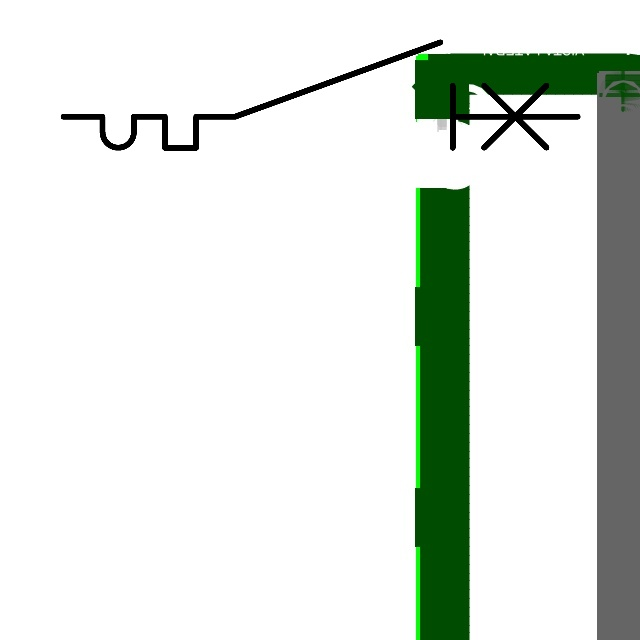interruptor_termomagnetico: (50, 29, 591, 161)
